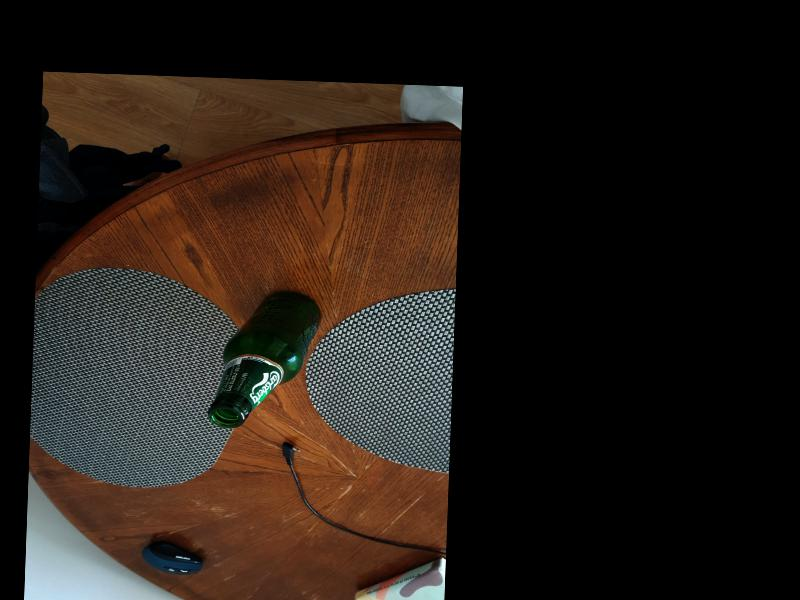Beer: (206, 286, 327, 431)
